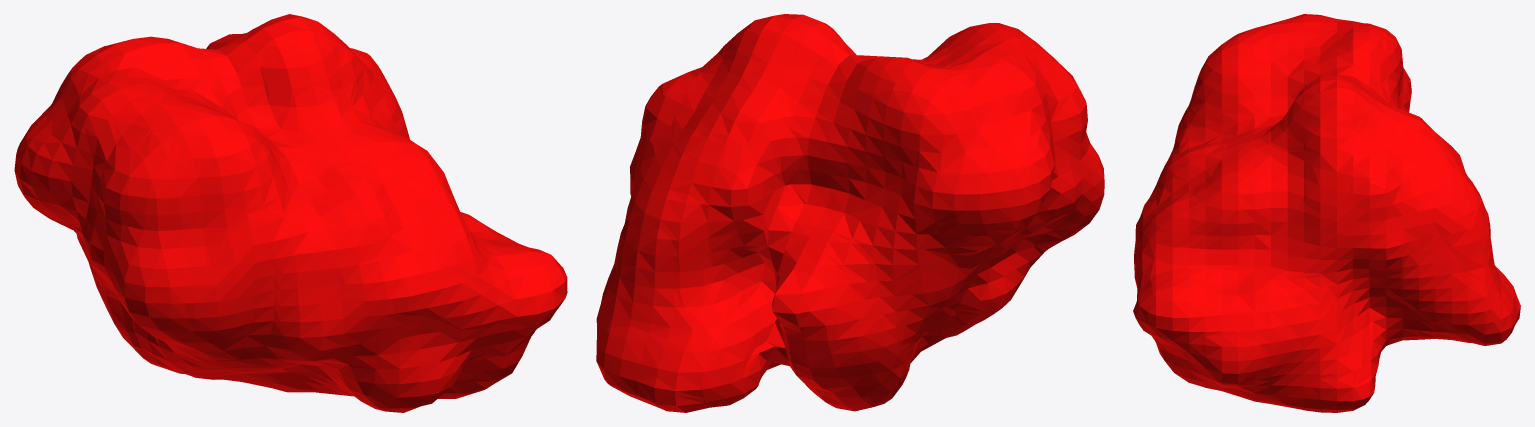
Rendered from hemH_coarse.dae.
The picture shows the model from 3 angles, left to right: view 1: azimuth 30°, elevation 25°; view 2: azimuth 150°, elevation 25°; view 3: azimuth 270°, elevation 25°; orthographic projection. The views are drawn at different scales.
Parts seen in each view (by area): view 1: hemH; view 2: hemH; view 3: hemH.
Part boxes in pixels (left/top/right/bottom): hemH: left=14, top=14, right=567, bottom=412; hemH: left=596, top=14, right=1104, bottom=412; hemH: left=1133, top=14, right=1520, bottom=412.
Bounding box in the file's own units: 61.21 × 47.2 × 58.3.
